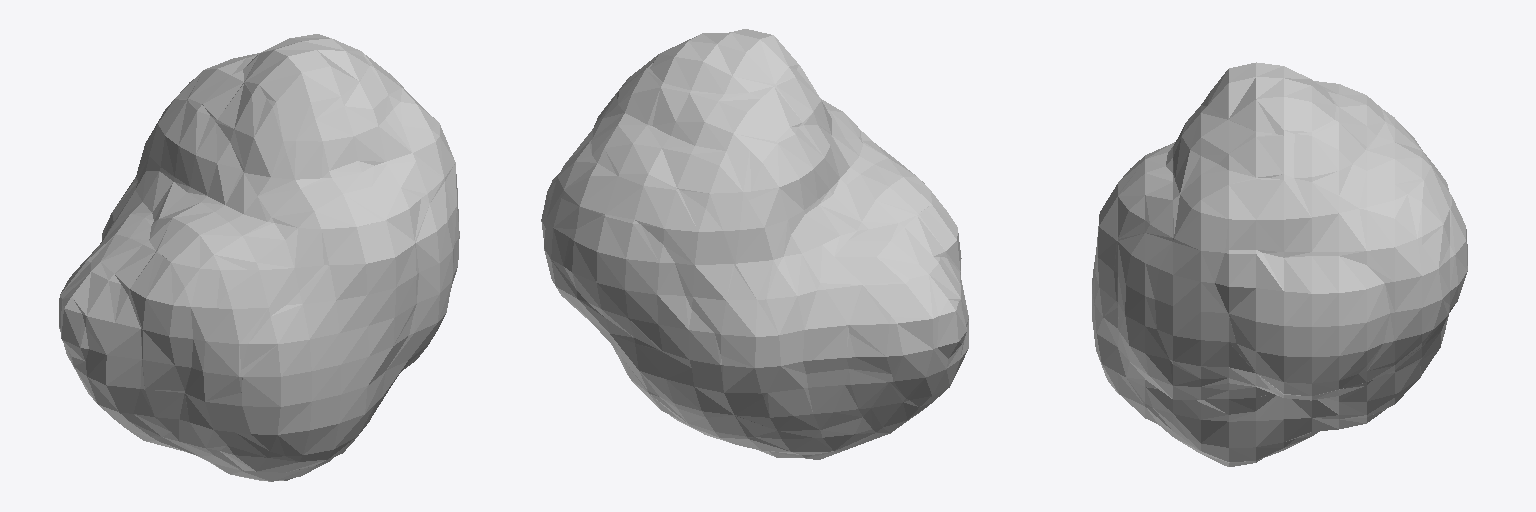
The model's file is 1t71_2_cms.obj.
3 renders of one model, left to right at view 1: azimuth 30°, elevation 25°; view 2: azimuth 150°, elevation 25°; view 3: azimuth 270°, elevation 25°, orthographic.
Bounding box in the file's own units: 87.98 × 88.71 × 74.52.